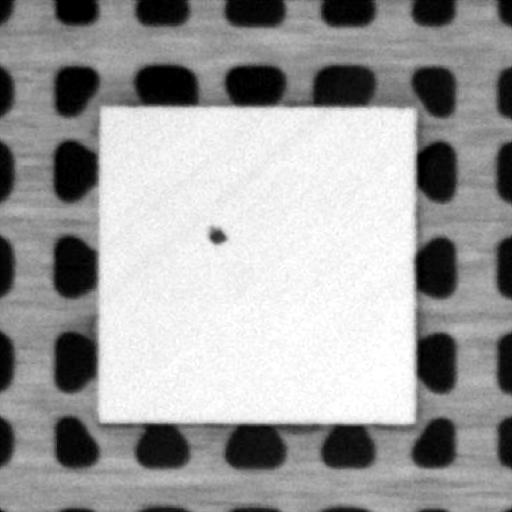DIE_INK: (205, 223, 226, 244)
